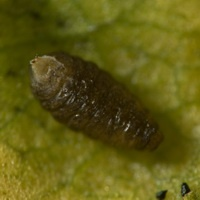insect: (30, 53, 162, 149)
